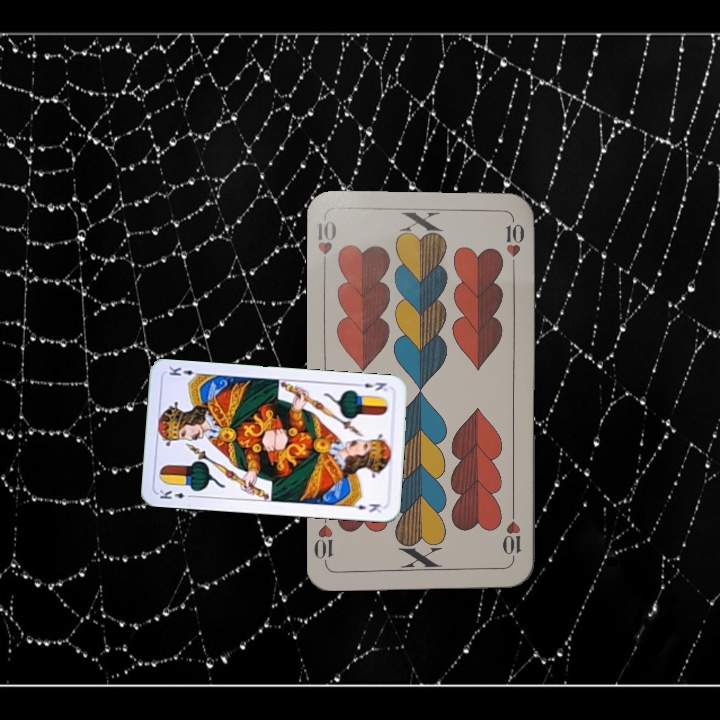EK: (156, 486, 196, 502), (352, 378, 390, 393)
H10: (313, 217, 339, 275), (500, 505, 524, 564)
